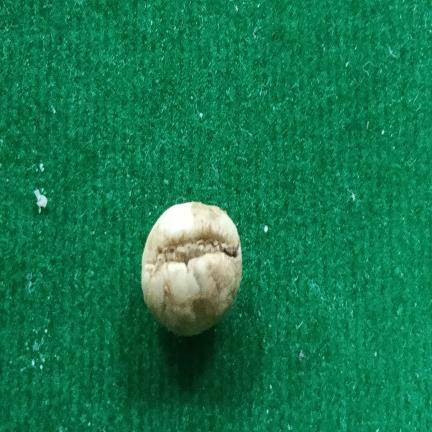good: (141, 202, 242, 336)
